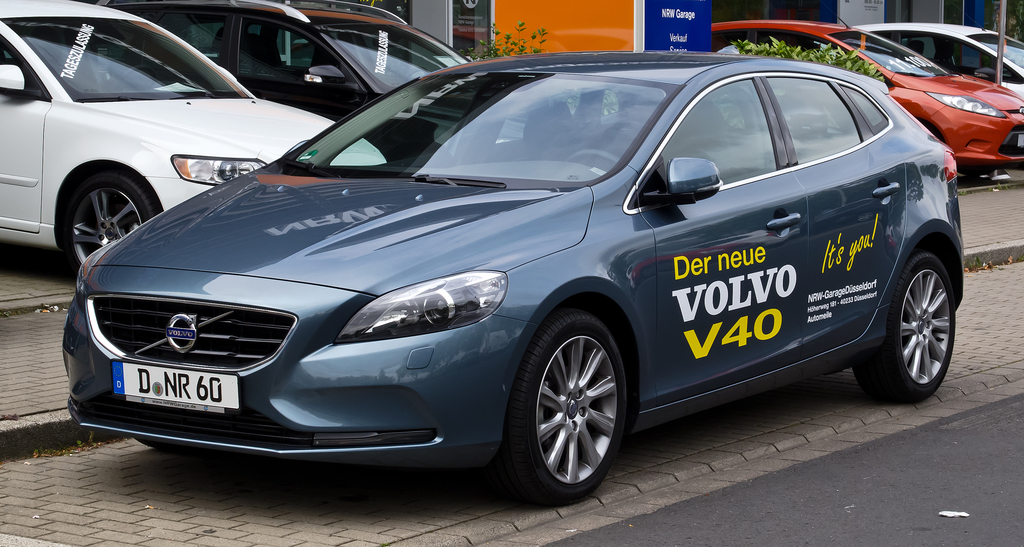Car: (0, 0, 1023, 503)
